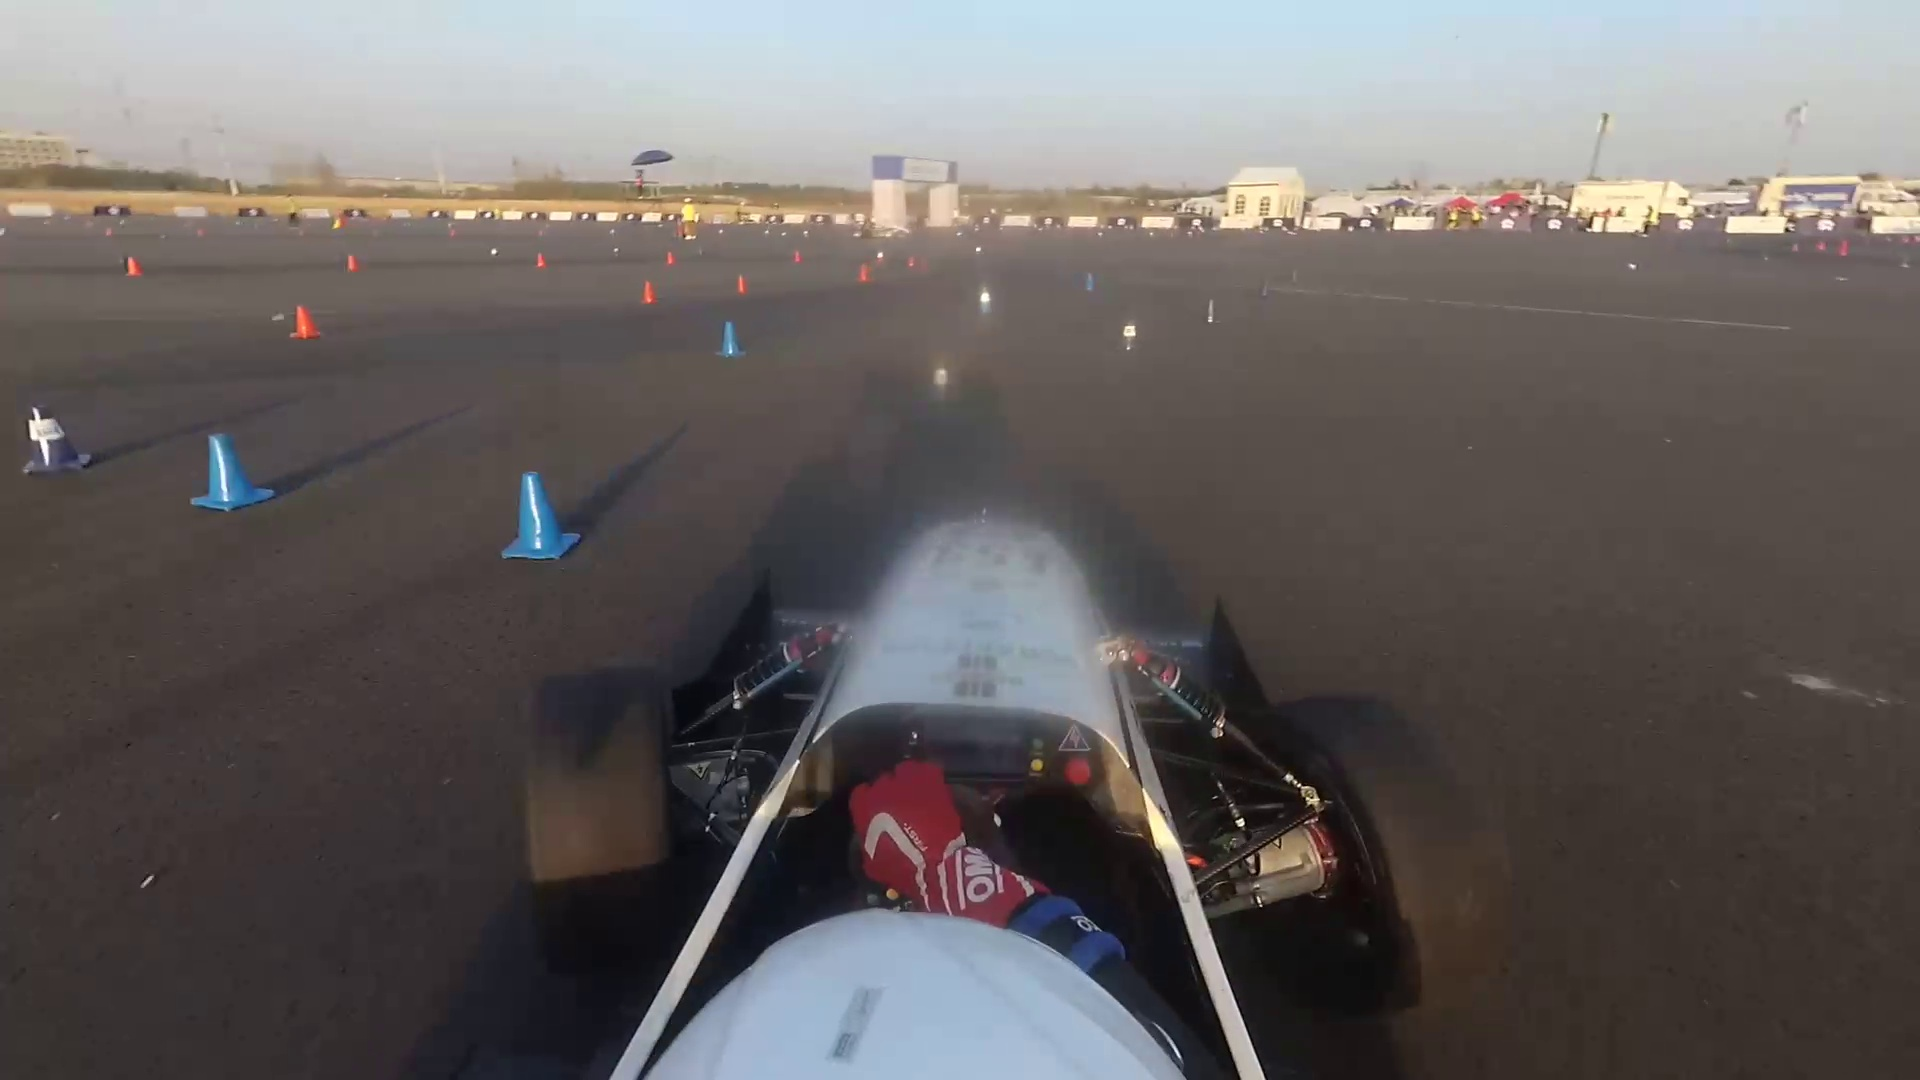blue_cone: (488, 469, 608, 571), (185, 419, 280, 520), (11, 384, 82, 484), (953, 277, 1011, 332), (927, 353, 969, 404), (713, 322, 752, 367), (1118, 313, 1146, 369), (1201, 291, 1226, 332), (1077, 258, 1097, 295), (608, 245, 624, 261), (800, 225, 812, 243), (955, 224, 965, 240), (976, 239, 984, 258), (607, 227, 618, 240), (778, 227, 789, 240), (717, 225, 727, 240), (764, 227, 771, 237)
red_cone: (286, 291, 324, 349), (729, 260, 760, 305), (116, 245, 148, 284), (633, 280, 667, 313), (527, 247, 554, 277), (344, 239, 363, 280), (855, 255, 876, 287), (659, 245, 679, 270), (873, 245, 889, 269), (789, 247, 806, 266), (907, 251, 919, 274), (194, 225, 207, 241), (105, 222, 113, 239)
